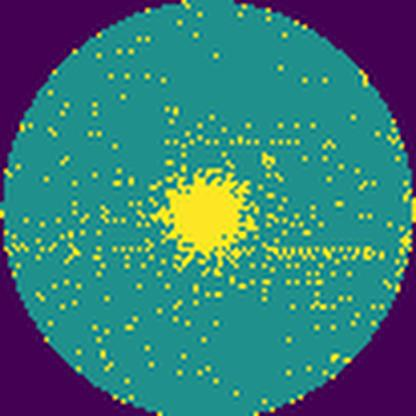Center: (161, 170, 253, 260)
